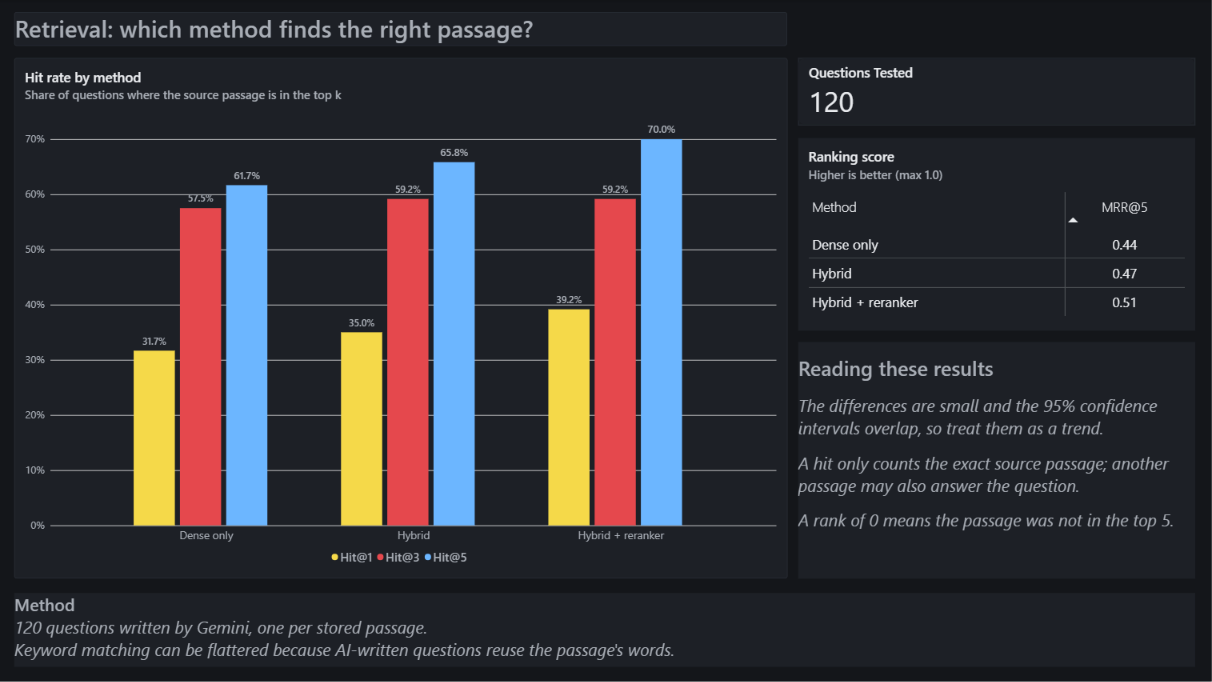

Layout of this report page (visuals, bound fields, positions):
{"tool":"powerbi","page":{"name":"Page 2","canvas":[1920,1080],"ordinal":1},"visuals":[{"type":"textbox","box":[23.7,19,1222.7,53.8],"z":0},{"type":"clusteredColumnChart","title":"Hit rate by method","fields":{"Category":["retrieval_results.Method"],"Y":["retrieval_results.Hit@1","retrieval_results.Hit@3","retrieval_results.Hit@5"]},"box":[23.7,91.5,1222.9,823.2],"z":1000},{"type":"cardVisual","title":"Questions Tested","fields":{"Data":["retrieval_results.Questions Tested"]},"box":[1263.5,91.5,628.4,106.7],"z":2000},{"type":"tableEx","title":"Ranking score","fields":{"Values":["retrieval_results.Method","retrieval_results.MRR@5"]},"box":[1263.5,218.5,628.4,304.9],"z":3000},{"type":"textbox","box":[1263.5,540.3,628.4,374.3],"z":4000},{"type":"textbox","box":[23.7,938.3,1868.2,116.9],"z":5000}]}

Visuals, with their boxes in screenshot pixels (x1, y1, x2, y2), scaled from the page's 1920x1080 canvas onto the 1212x682 screenshot:
textbox: l=15, t=12, r=787, b=46
"Hit rate by method" clusteredColumnChart: l=15, t=58, r=787, b=578
"Questions Tested" cardVisual: l=798, t=58, r=1194, b=125
"Ranking score" tableEx: l=798, t=138, r=1194, b=331
textbox: l=798, t=341, r=1194, b=578
textbox: l=15, t=593, r=1194, b=666
